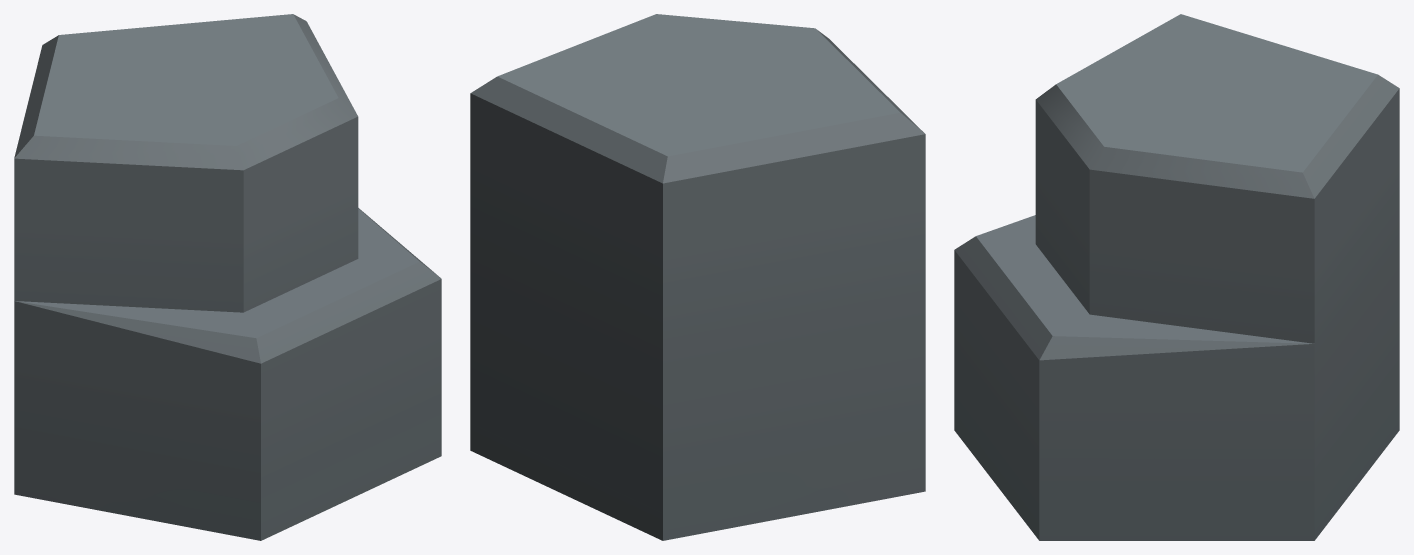
The model's file is rock_1_a_color1.glb.
The picture shows the model from 3 angles, left to right: view 1: azimuth 30°, elevation 25°; view 2: azimuth 150°, elevation 25°; view 3: azimuth 270°, elevation 25°; orthographic projection. The views are drawn at different scales.
Parts seen in each view (by area): view 1: Rock_1_A_Color1; view 2: Rock_1_A_Color1; view 3: Rock_1_A_Color1.
Part boxes in pixels (x1,y1,x2,y2): Rock_1_A_Color1: (14, 14, 441, 540); Rock_1_A_Color1: (470, 14, 925, 540); Rock_1_A_Color1: (954, 14, 1399, 540).
Bounding box in the file's own units: 0.578 × 0.5403 × 0.6078.
1 material, 1 textured.
